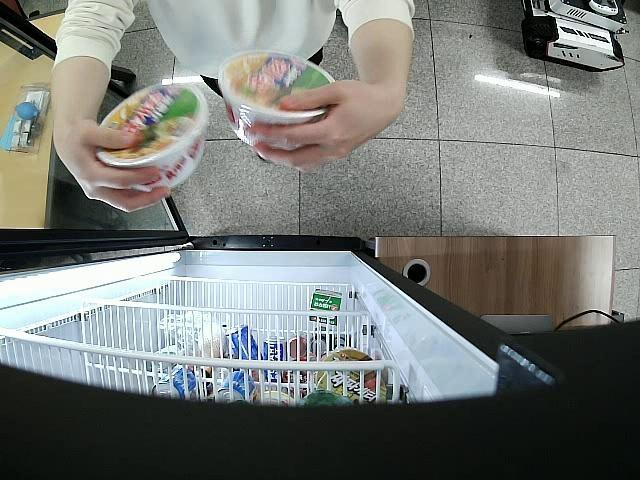09_yukGaeJang: (96, 80, 209, 192), (218, 51, 337, 148)
